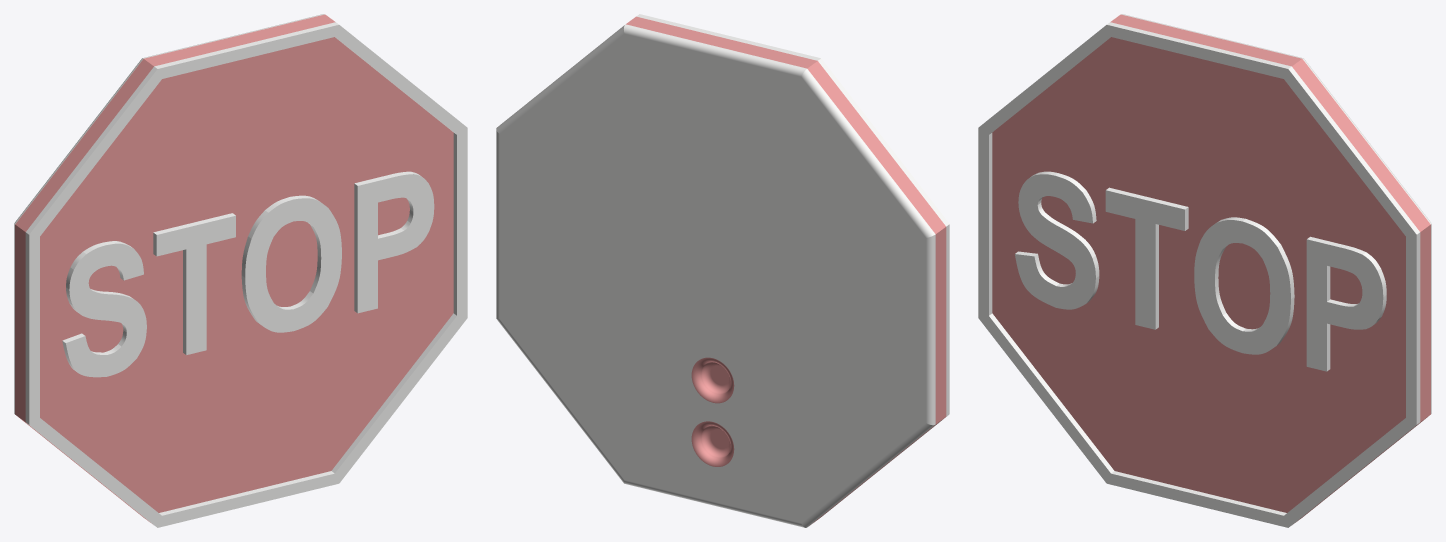
Rendered from Stop Sign Sign Only.dae.
3 views of the same model, side by side, from view 1: azimuth 30°, elevation 25°; view 2: azimuth 150°, elevation 25°; view 3: azimuth 330°, elevation 25° (orthographic).
Parts seen in each view (by area): view 1: Stop Sign, Sign only; view 2: Stop Sign, Sign only; view 3: Stop Sign, Sign only.
Part boxes in pixels (x1,y1,x2,y2): Stop Sign, Sign only: [14, 14, 467, 527]; Stop Sign, Sign only: [496, 14, 949, 527]; Stop Sign, Sign only: [978, 14, 1431, 527].
Bounding box in the file's own units: 0.0914 × 0.00635 × 0.0914.
